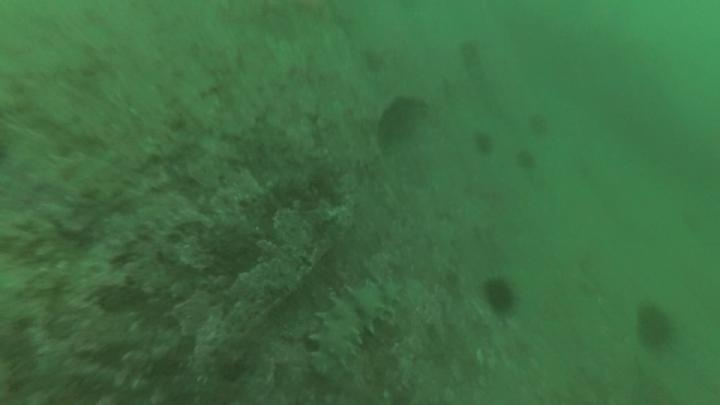echinus: (632, 301, 678, 353), (480, 274, 520, 320), (455, 37, 485, 72), (470, 128, 497, 159), (525, 110, 552, 138), (513, 147, 539, 173)
holothurian: (306, 275, 404, 379)
